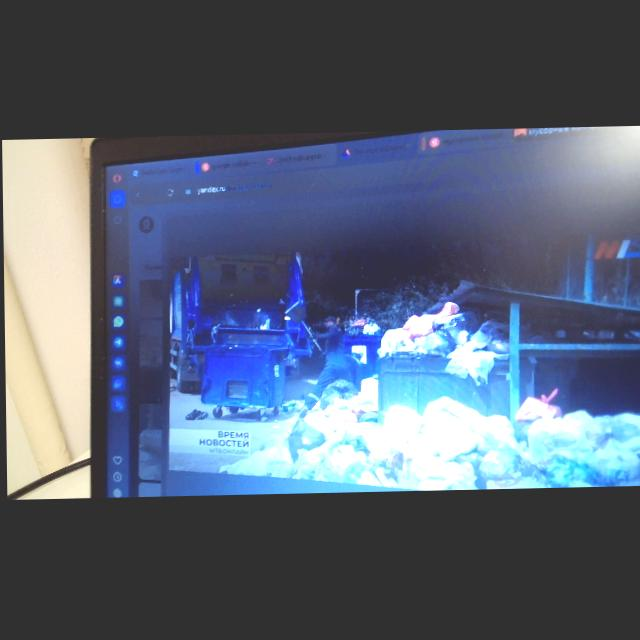Trash_Can_Empty: (207, 343, 288, 410)
Trash_Can_Full: (376, 303, 487, 419), (341, 313, 382, 376)
